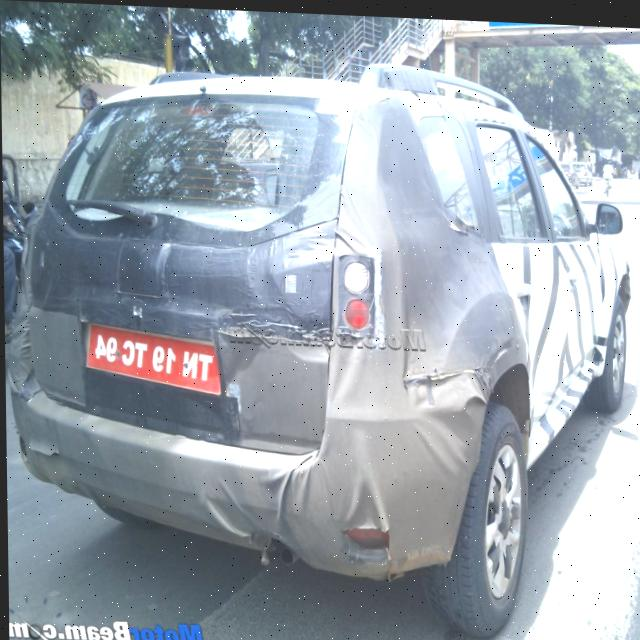plate: (84, 320, 221, 393)
